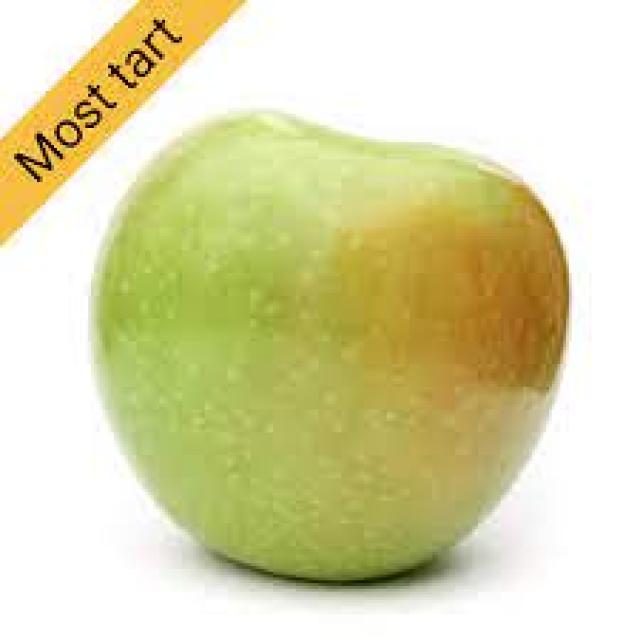apple: (85, 105, 597, 614)
